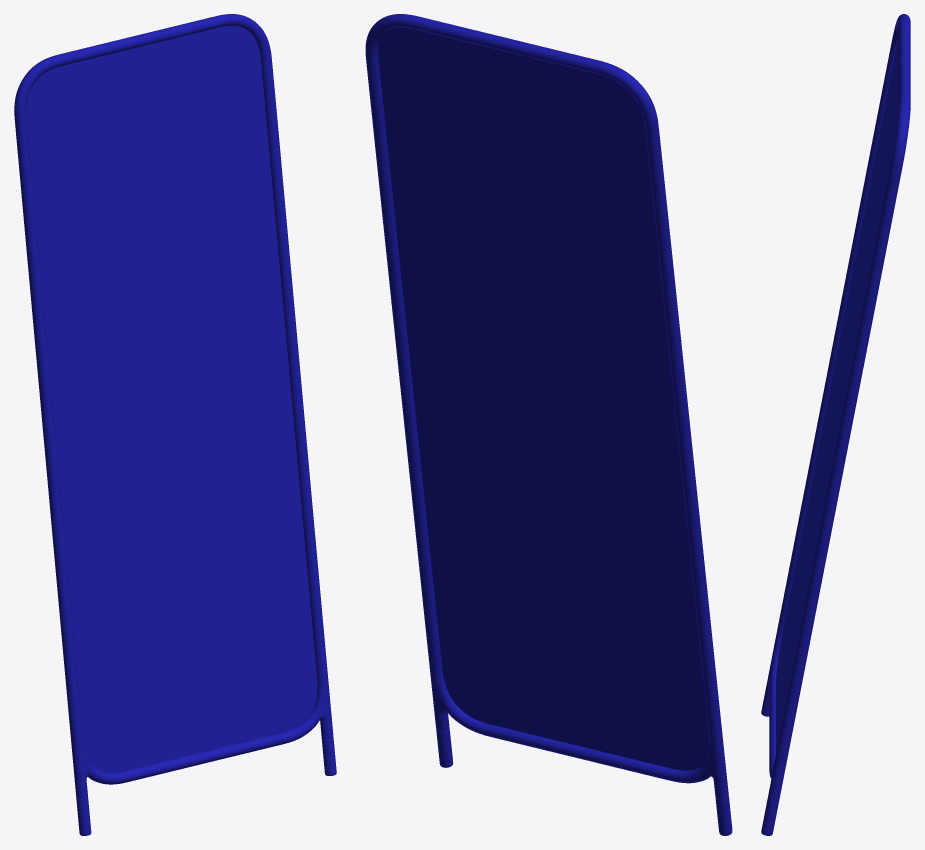
Rendered from Mirror 06.obj.
3 renders of one model, left to right at view 1: azimuth 30°, elevation 25°; view 2: azimuth 150°, elevation 25°; view 3: azimuth 270°, elevation 25°, orthographic. The views are drawn at different scales.
Parts seen in each view (by area): view 1: Mirror_06; view 2: Mirror_06; view 3: Mirror_06.
Boxes of the visible parts, x1,y1,x2,y2 form: Mirror_06: [14, 14, 336, 835]; Mirror_06: [365, 14, 732, 835]; Mirror_06: [761, 14, 910, 835].
Bounding box in the file's own units: 24.64 × 66.2 × 12.54.
